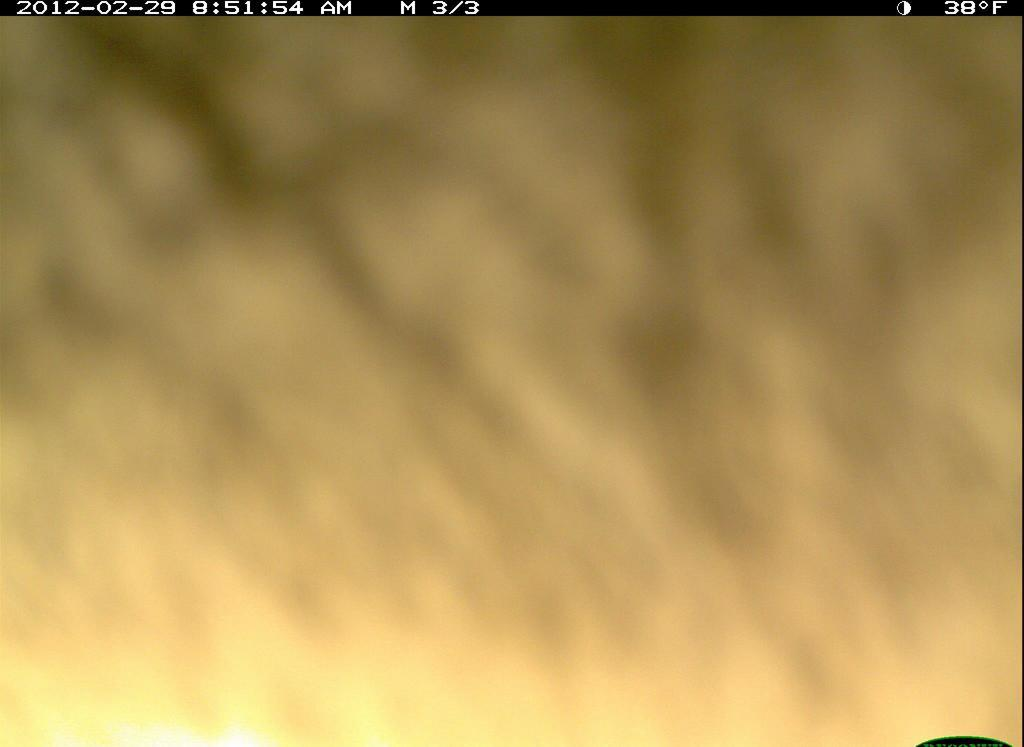coyote: (4, 14, 1020, 747)
